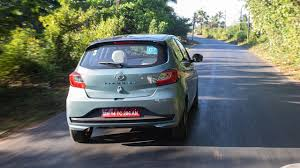Tiago: (63, 27, 200, 147)
